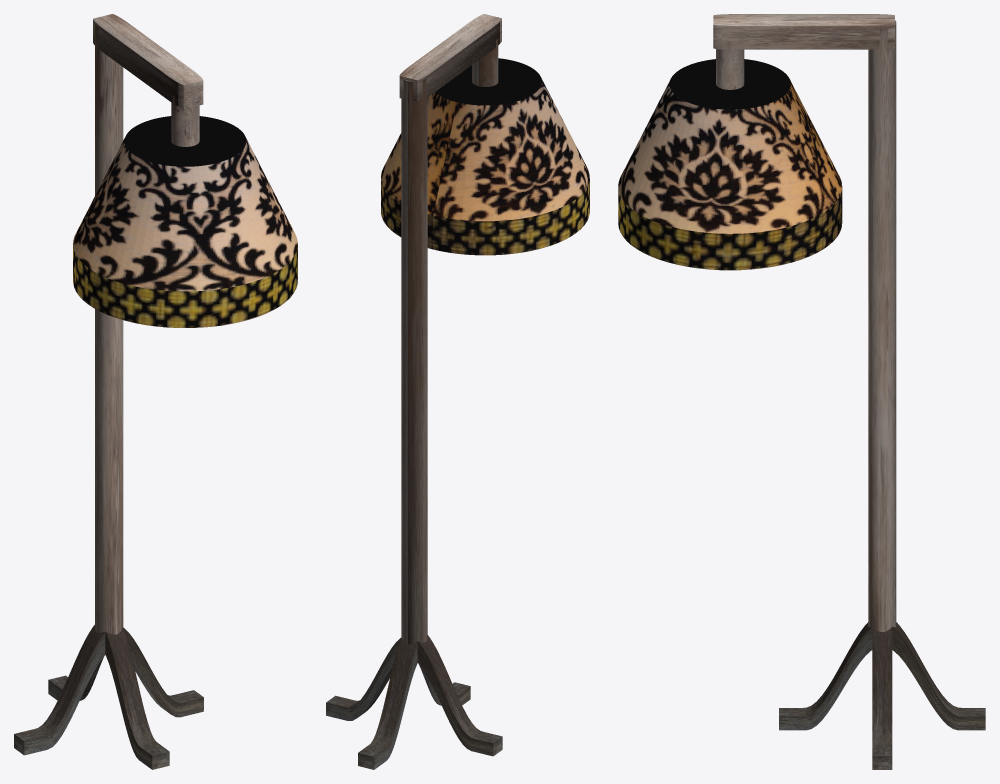
The model's file is hanglamp.glb.
The picture shows the model from 3 angles, left to right: view 1: azimuth 30°, elevation 25°; view 2: azimuth 150°, elevation 25°; view 3: azimuth 270°, elevation 25°; orthographic projection. The views are drawn at different scales.
Visible parts, largest first — view 1: Cylinder.002, Cylinder.001, Cube, Cube.001, Cylinder.003; view 2: Cylinder.002, Cylinder.001, Cube, Cube.001, Cylinder.003; view 3: Cylinder.002, Cylinder.001, Cube, Cube.001, Cylinder.003.
Boxes of the visible parts, x1,y1,x2,y2 form: Cylinder.002: [73, 116, 297, 327]; Cylinder.001: [95, 25, 123, 634]; Cube: [14, 625, 203, 769]; Cube.001: [93, 14, 203, 109]; Cylinder.003: [171, 95, 199, 146]; Cylinder.002: [381, 58, 589, 255]; Cylinder.001: [401, 78, 427, 644]; Cube: [326, 635, 502, 769]; Cube.001: [399, 14, 501, 102]; Cylinder.003: [472, 38, 498, 86]; Cylinder.002: [618, 59, 842, 270]; Cylinder.001: [868, 20, 896, 632]; Cube: [779, 622, 985, 769]; Cube.001: [713, 14, 894, 49]; Cylinder.003: [716, 41, 744, 89].
Size of the model in its own units: 0.5454 by 1.9 by 0.8949.
Materials: 3 (3 with a texture image).
